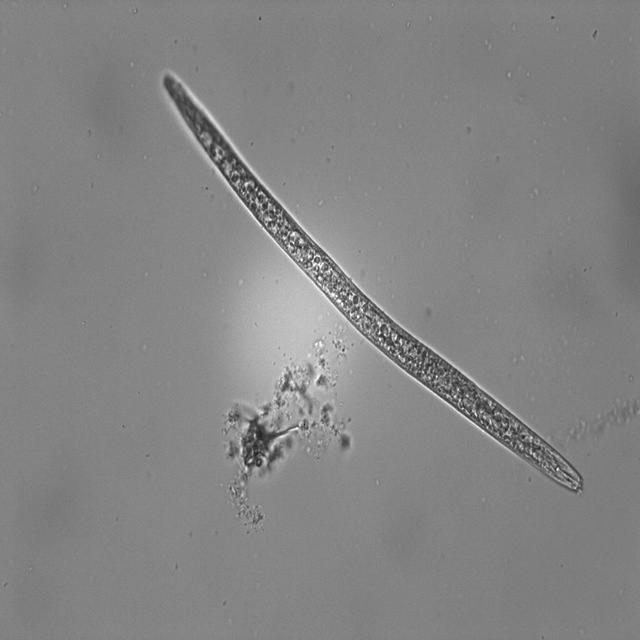Pratylenchus: (160, 71, 594, 505)
